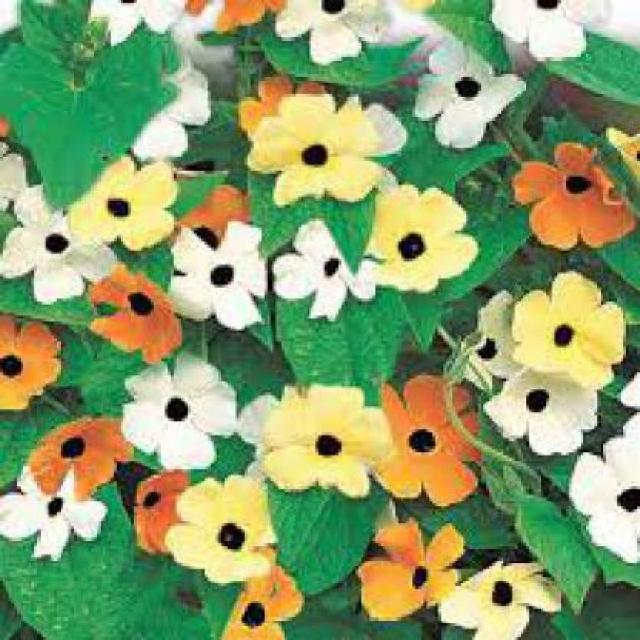Flower: (362, 373, 486, 509), (245, 91, 382, 211), (259, 384, 396, 498), (3, 179, 123, 307), (509, 142, 637, 256), (350, 182, 478, 293), (116, 350, 236, 468), (509, 270, 626, 390), (165, 475, 291, 583), (412, 40, 526, 151), (156, 219, 270, 330), (66, 148, 180, 254), (483, 353, 600, 455), (270, 216, 381, 322), (352, 518, 466, 620), (569, 413, 638, 570), (3, 458, 109, 560), (439, 558, 563, 638), (89, 262, 183, 364), (32, 415, 133, 500), (274, 3, 392, 66), (492, 3, 612, 60), (3, 313, 63, 410)
